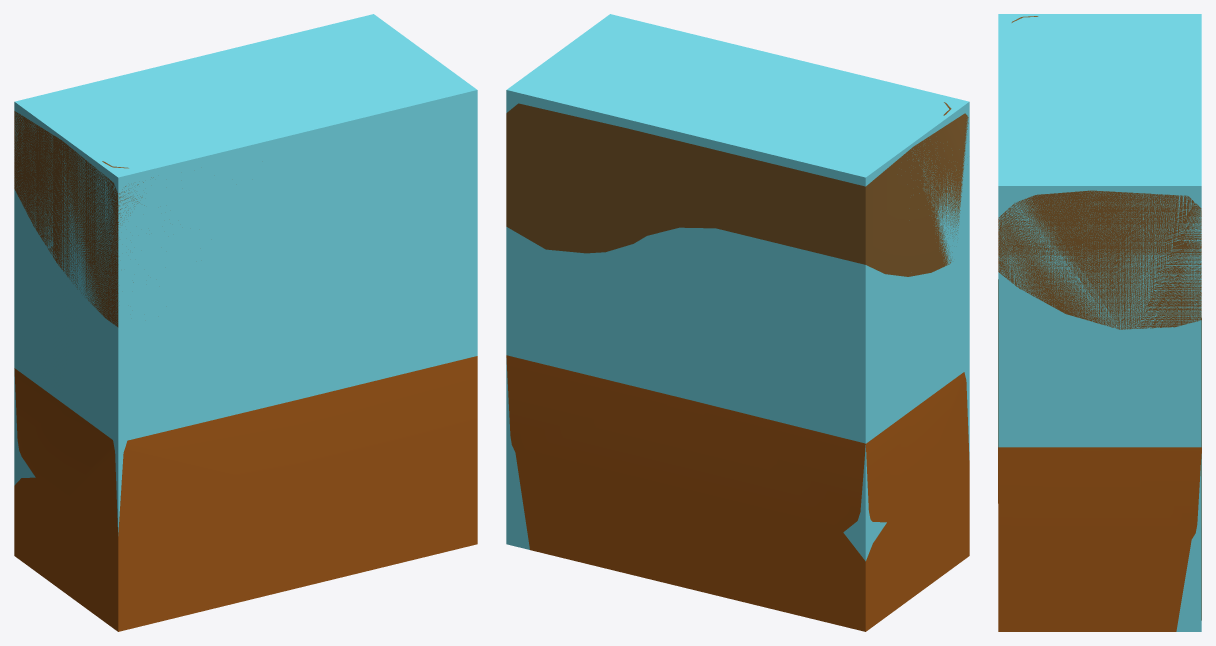
Rendered from PBOX2_Mud_05.FBX.
3 views of the same model, side by side, from view 1: azimuth 30°, elevation 25°; view 2: azimuth 150°, elevation 25°; view 3: azimuth 270°, elevation 25° (orthographic).
Parts seen in each view (by area): view 1: PBOX2_Mud_05, PBOX1_SUB_TAB_MUD_011, PBOX2_SUB_Mud_05; view 2: PBOX2_Mud_05, PBOX1_SUB_TAB_MUD_011, PBOX2_SUB_Mud_05; view 3: PBOX2_Mud_05, PBOX1_SUB_TAB_MUD_011, PBOX2_SUB_Mud_05.
Part boxes in pixels (box(x1,y1,x2,y2)): PBOX2_Mud_05: box(14, 14, 477, 535); PBOX1_SUB_TAB_MUD_011: box(14, 356, 477, 631); PBOX2_SUB_Mud_05: box(14, 111, 153, 327); PBOX2_Mud_05: box(506, 14, 969, 561); PBOX1_SUB_TAB_MUD_011: box(506, 355, 969, 631); PBOX2_SUB_Mud_05: box(506, 102, 968, 276); PBOX2_Mud_05: box(998, 14, 1201, 631); PBOX1_SUB_TAB_MUD_011: box(998, 279, 1201, 631); PBOX2_SUB_Mud_05: box(998, 16, 1201, 329).
Bounding box in the file's own units: 12 × 14.51 × 6.
